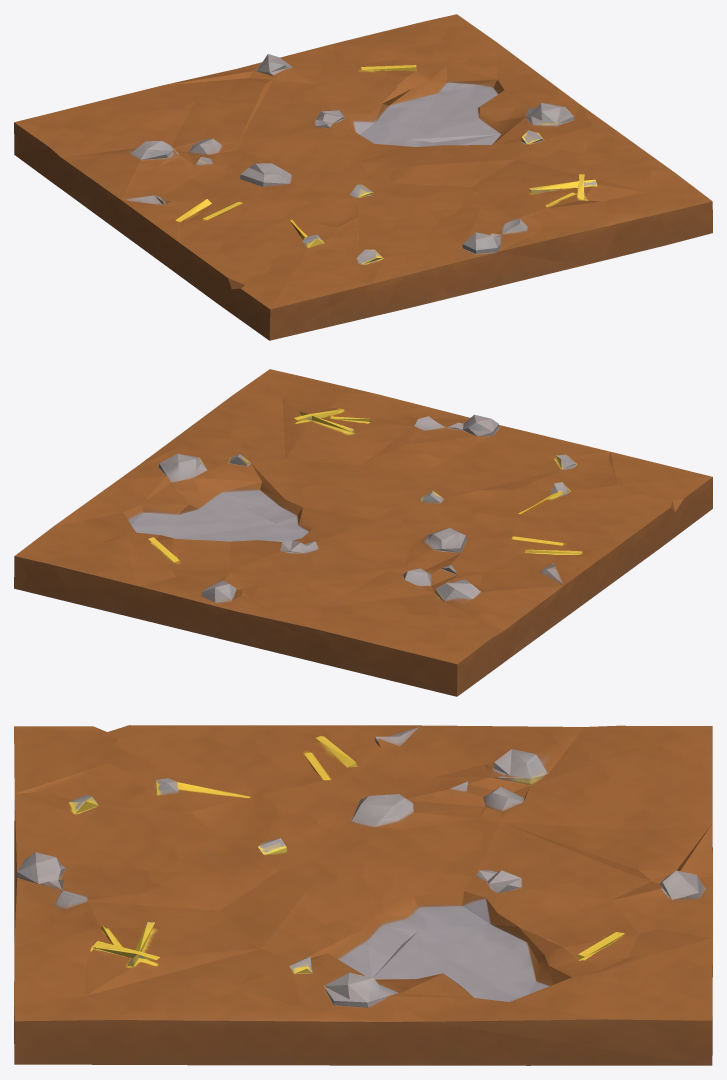
Rendered from TWN_FLR_dirt_A.glb.
The picture shows the model from 3 angles, top to bottom: view 1: azimuth 30°, elevation 25°; view 2: azimuth 150°, elevation 25°; view 3: azimuth 270°, elevation 25°; orthographic projection. The views are drawn at different scales.
Parts seen in each view (by area): view 1: Mesh_0; view 2: Mesh_0; view 3: Mesh_0.
Part boxes in pixels (x1,y1,x2,y2): Mesh_0: (14, 14, 712, 340); Mesh_0: (14, 369, 712, 696); Mesh_0: (14, 725, 712, 1065).
Bounding box in the file's own units: 1.9 × 0.1837 × 1.9.
1 material, 1 textured.
